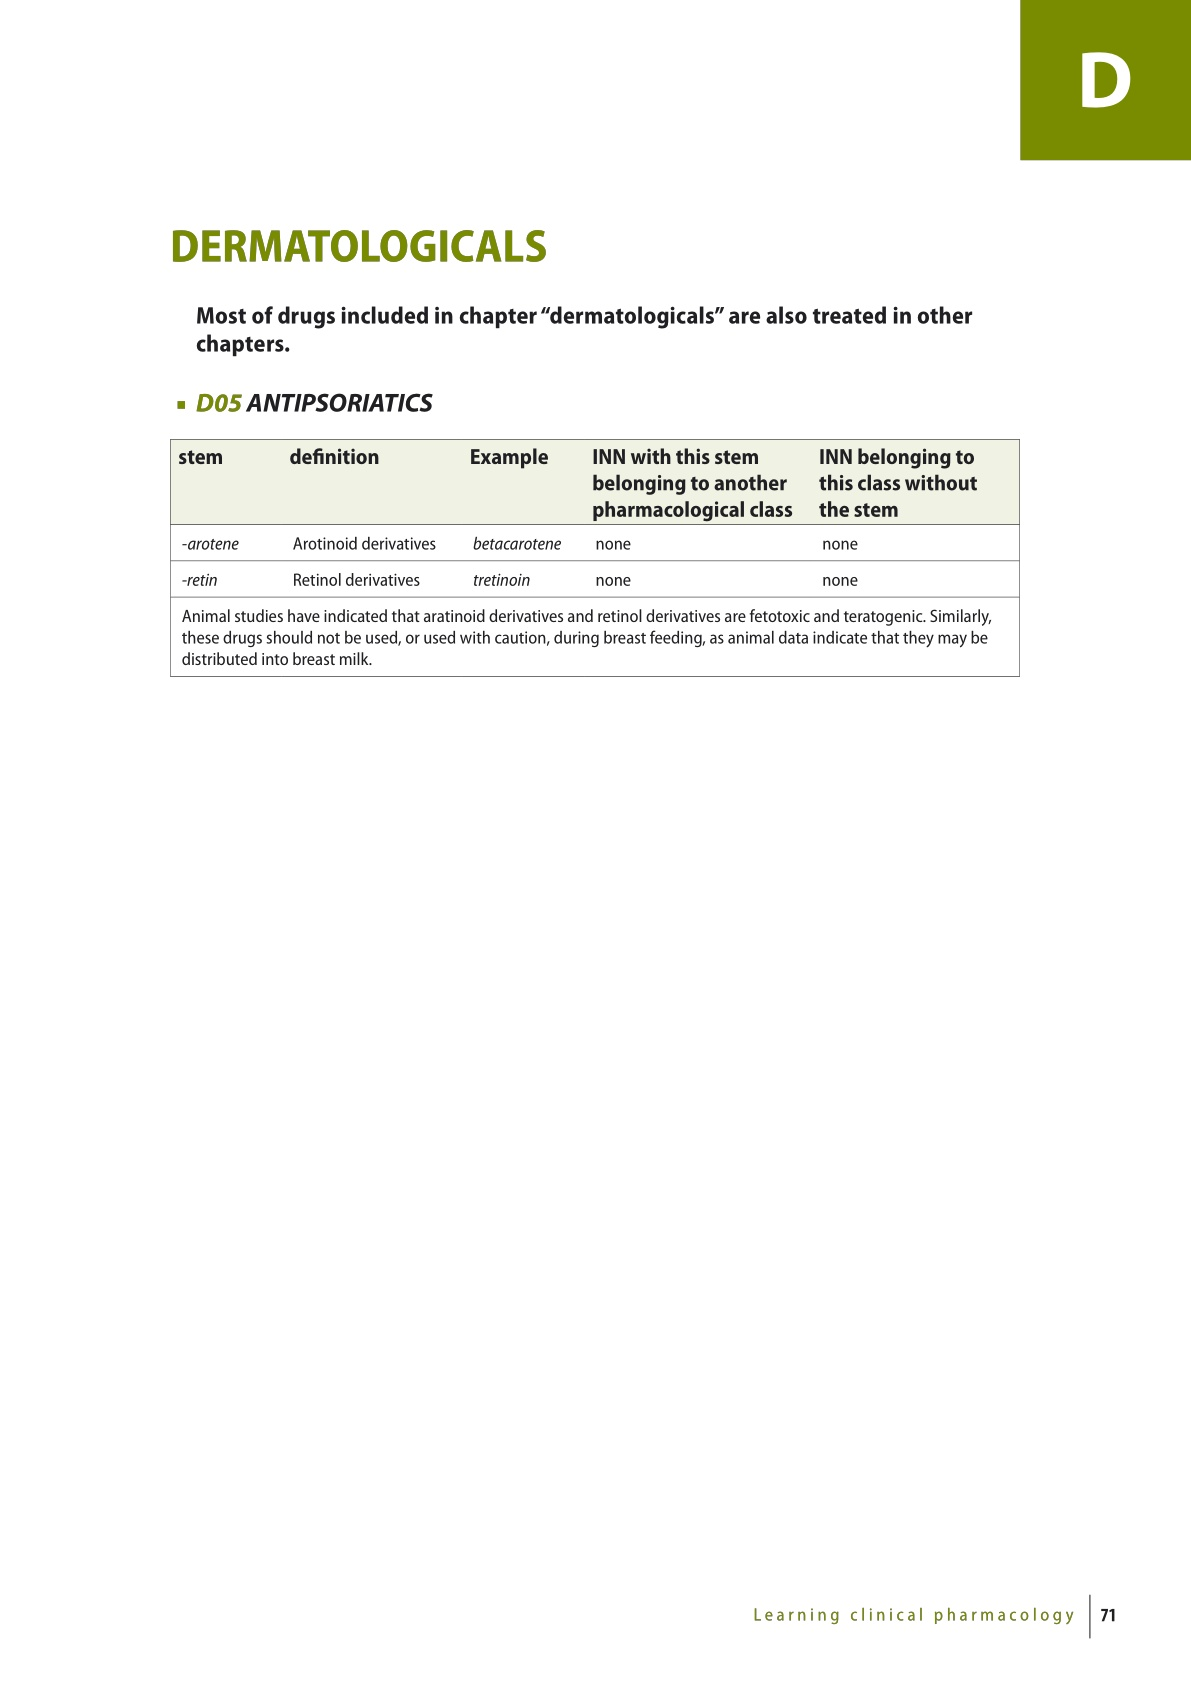partial_lined_merged_cells: (169, 438, 1021, 678)
